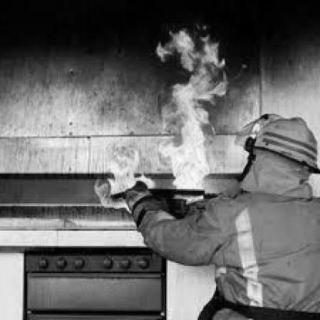Fire: (156, 22, 232, 186), (93, 144, 150, 204)
other: (248, 113, 320, 192), (241, 211, 257, 301)
